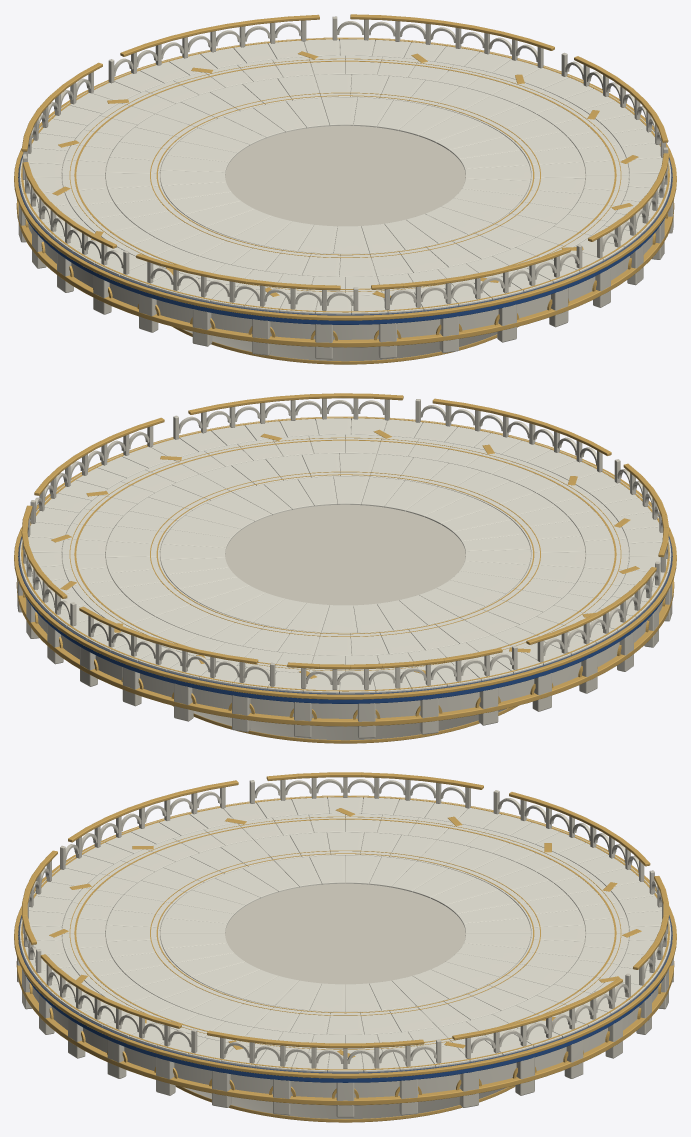
File: platform.glb
3 renders of one model, top to bottom at view 1: azimuth 30°, elevation 25°; view 2: azimuth 150°, elevation 25°; view 3: azimuth 270°, elevation 25°, orthographic.
Visible parts, largest first — view 1: Dressed paving slab, Foundation, Lower cornice, Recessed band, Recessed mortar bed; view 2: Dressed paving slab, Foundation, Lower cornice, Recessed band, Recessed mortar bed; view 3: Dressed paving slab, Foundation, Lower cornice, Recessed band, Recessed mortar bed.
Part boxes in pixels (box(x1,y1,x2,y2)): Dressed paving slab: box(19, 38, 671, 314); Foundation: box(18, 16, 673, 361); Lower cornice: box(14, 14, 676, 364); Recessed band: box(24, 215, 666, 324); Recessed mortar bed: box(18, 40, 672, 315); Dressed paving slab: box(19, 417, 671, 693); Foundation: box(17, 398, 672, 740); Lower cornice: box(14, 393, 676, 743); Recessed band: box(24, 594, 666, 703); Recessed mortar bed: box(18, 419, 672, 694); Dressed paving slab: box(19, 795, 671, 1072); Foundation: box(17, 777, 673, 1118); Lower cornice: box(14, 772, 676, 1122); Recessed band: box(24, 973, 666, 1082); Recessed mortar bed: box(18, 798, 672, 1073).
Bounding box in the file's own units: 24.3 × 7.34 × 24.3.
